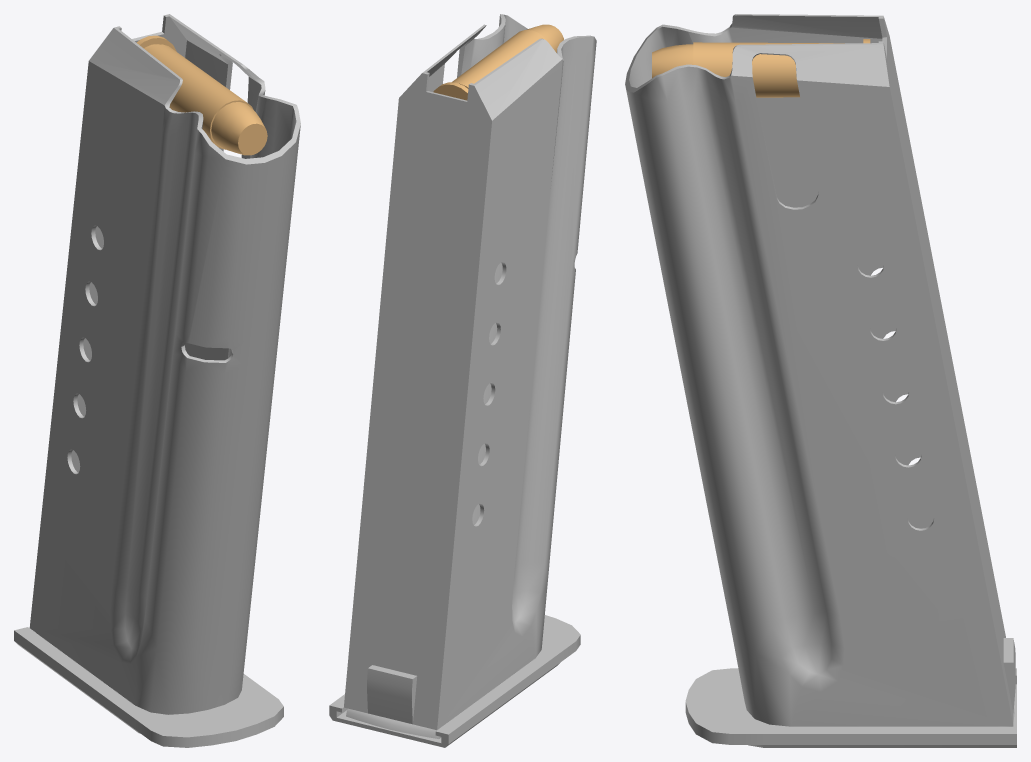
Rendered from SM_MagDeagle.fbx.
3 views of the same model, side by side, from view 1: azimuth 30°, elevation 25°; view 2: azimuth 150°, elevation 25°; view 3: azimuth 270°, elevation 25° (orthographic). The views are drawn at different scales.
Parts seen in each view (by area): view 1: Trigger_low.001; view 2: Trigger_low.001; view 3: Trigger_low.001.
Boxes of the visible parts, x1=… form: Trigger_low.001: x1=14, y1=14, x2=300, y2=747; Trigger_low.001: x1=329, y1=14, x2=596, y2=747; Trigger_low.001: x1=625, y1=14, x2=1016, y2=747.
Size of the model in its own units: 2.85 by 13.98 by 7.23.
